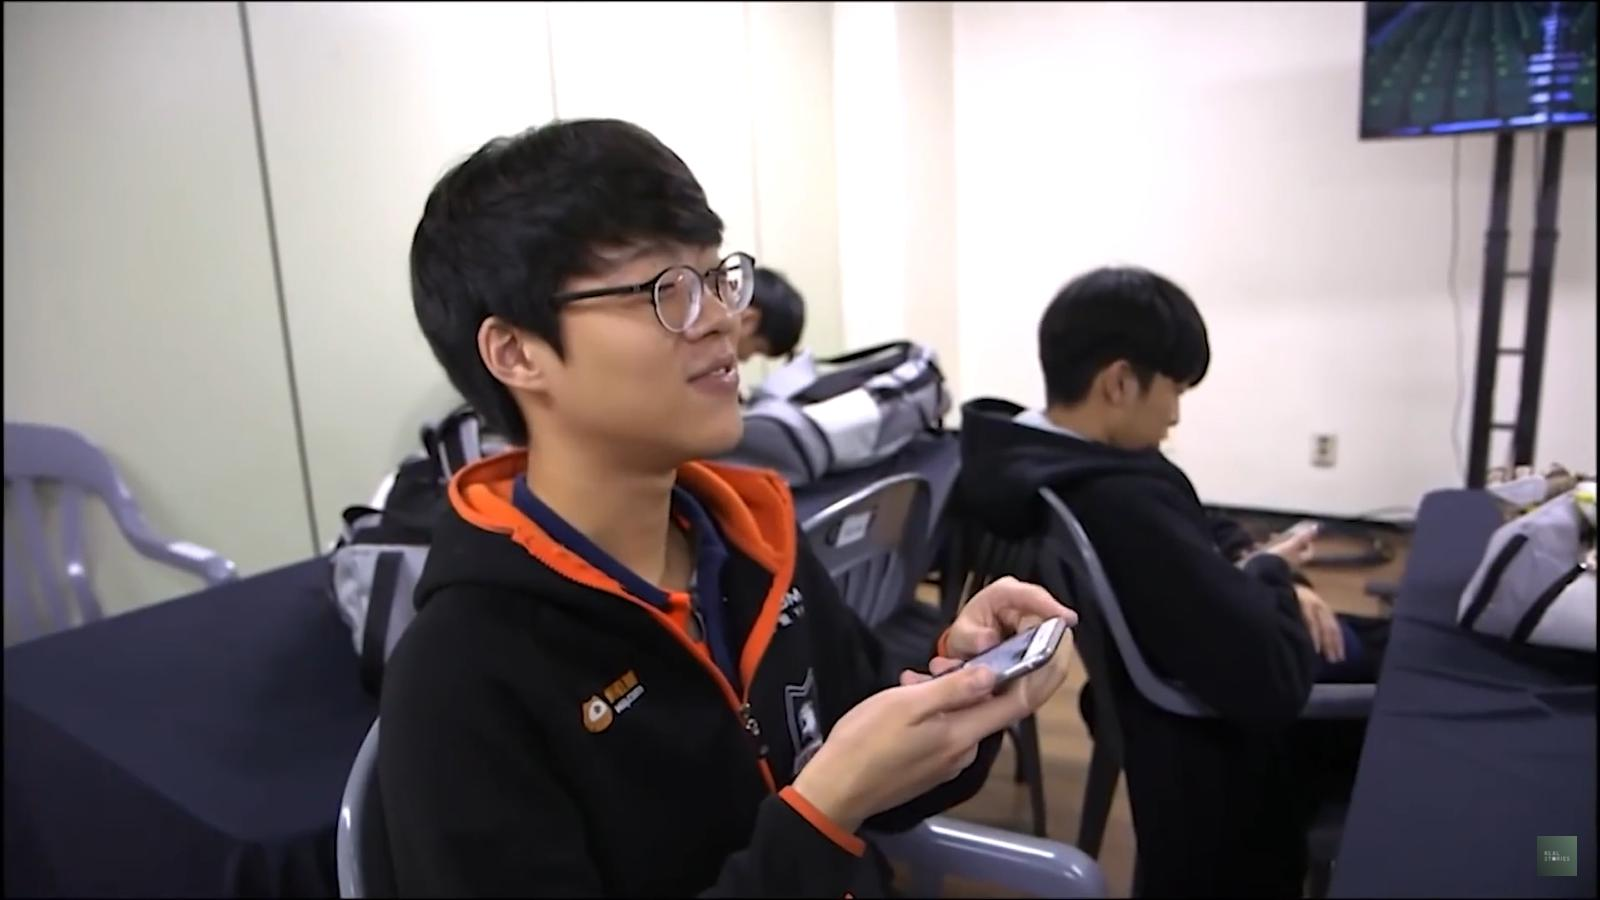without_mask: (552, 245, 733, 445), (1123, 376, 1180, 444), (739, 323, 775, 361)
